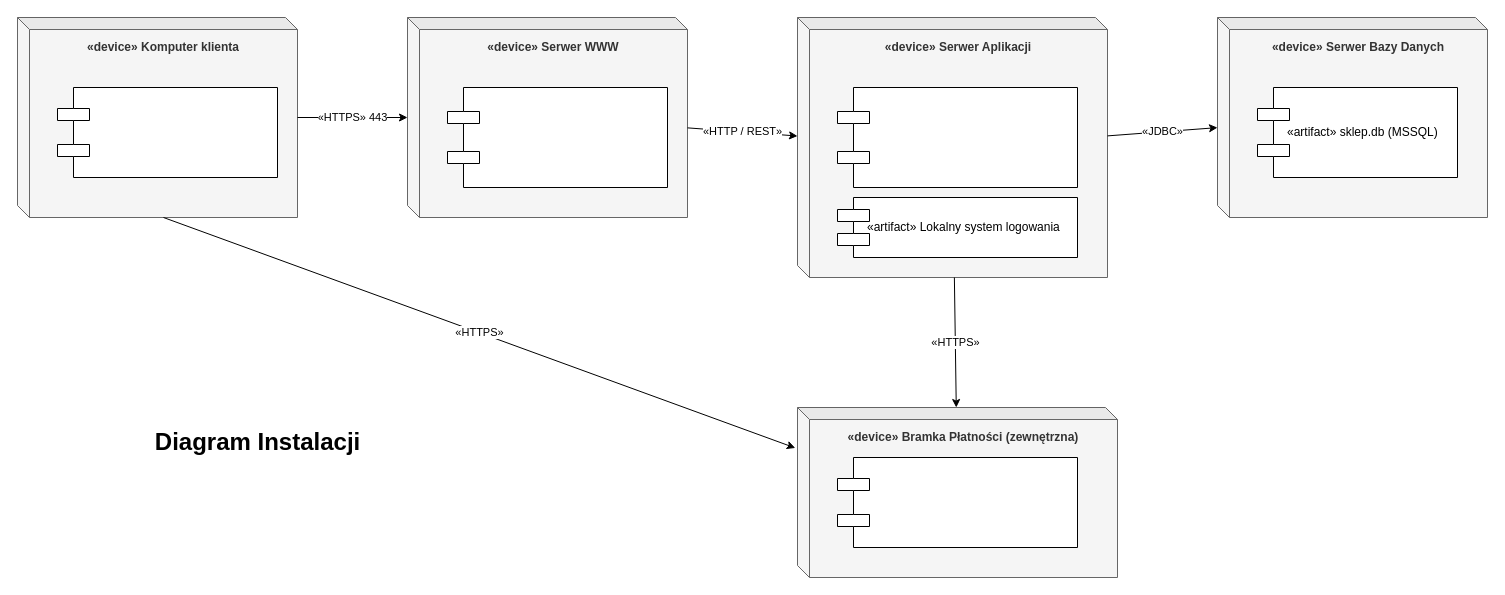
The diagram is 1505 pixels wide and 595 high, and some of its shapes have lost their labels. Here are the shapes that lost their labels. From the top down, the centre of each, then its label:
At point 167,132: "«artifact» przeglądarka WWW (Chrome / Firefox)".
At point 557,137: "«artifact» Zbudowane pliki UI (HTML/JS/CSS)".
At point 957,137: "«artifact» ecommerce-backend.jar (Spring Boot)".
At point 957,502: "«artifact» API dostawcy płatności".
